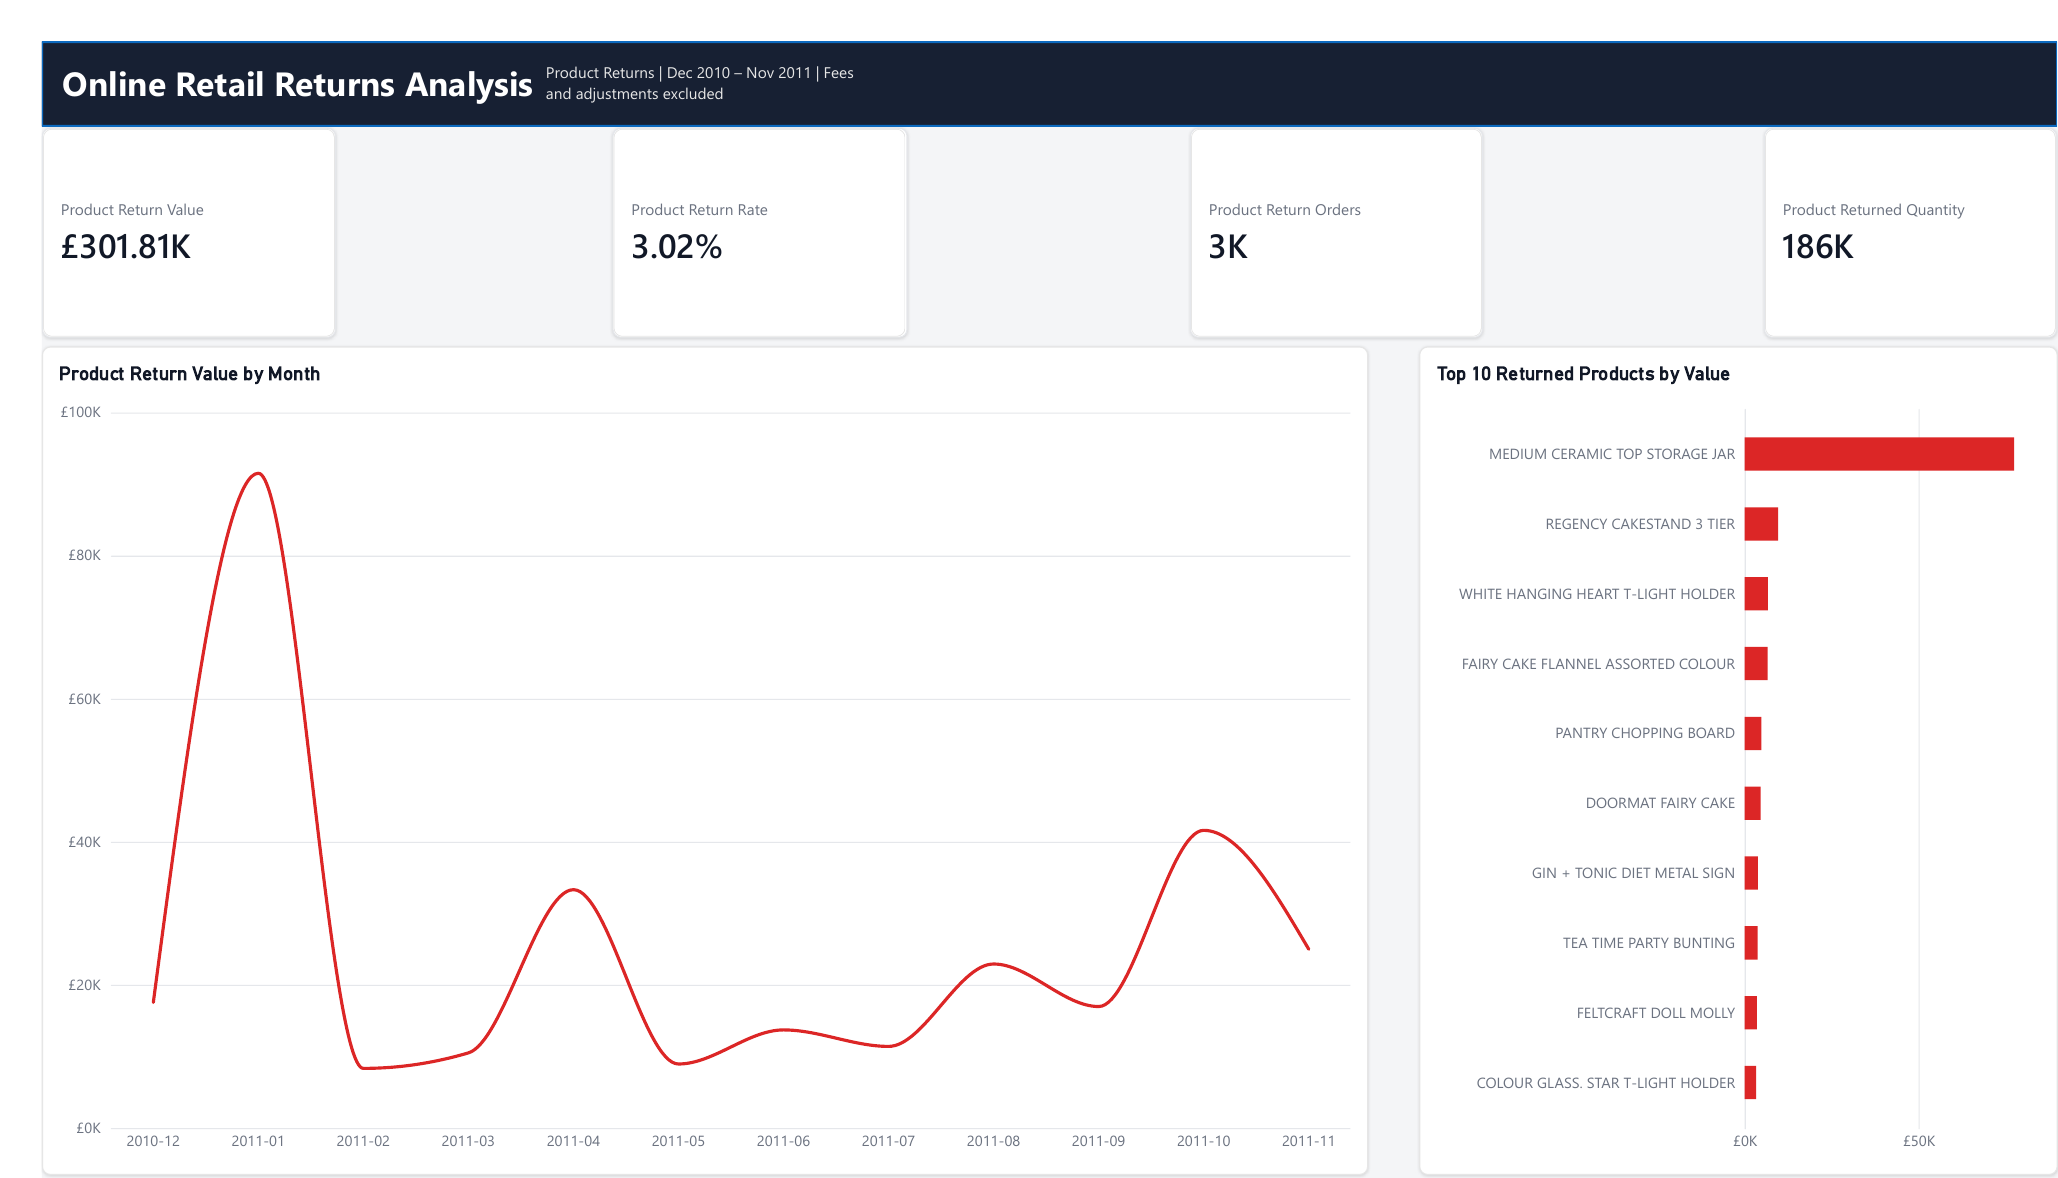

The page's visual inventory and layout, read from the dashboard file:
{"tool":"powerbi","page":{"name":"Returns Analysis","canvas":[1920,1080],"ordinal":1},"visuals":[{"type":"cardVisual","fields":{"Data":["Transactions.Product Return Value"]},"box":[0,81.1,280,200],"z":0},{"type":"cardVisual","fields":{"Data":["Transactions.Product Return Rate"]},"box":[542.7,81.1,280.6,200],"z":1000},{"type":"cardVisual","fields":{"Data":["Transactions.Product Return Orders"]},"box":[1093.3,81.1,279.3,200],"z":2000},{"type":"cardVisual","fields":{"Data":["Transactions.Product Returned Quantity"]},"box":[1640,81.1,279.3,200],"z":3000},{"type":"lineChart","title":"Product Return Value by Month","fields":{"Category":["Calendar.Year Month"],"Y":["Transactions.Product Return Value"]},"box":[0,290.3,1263.5,789.3],"z":4000},{"type":"clusteredBarChart","title":"Top 10 Returned Products by Value","fields":{"Category":["Transactions.Description"],"Y":["Transactions.Product Return Value"]},"box":[1311.6,290.3,608,789],"z":5000},{"type":"shape","box":[0,0,1919.3,80],"z":6000},{"type":"textbox","box":[20,17.3,449.6,62.5],"z":7000},{"type":"textbox","box":[480,19,300,300],"z":8000}]}

Visuals, with their boxes in screenshot pixels (x1, y1, x2, y2), scaled from the page's 1920x1080 canvas onto the 2058x1178 screenshot:
cardVisual - Transactions.Product Return Value: (x1=0, y1=88, x2=300, y2=307)
cardVisual - Transactions.Product Return Rate: (x1=582, y1=88, x2=882, y2=307)
cardVisual - Transactions.Product Return Orders: (x1=1172, y1=88, x2=1471, y2=307)
cardVisual - Transactions.Product Returned Quantity: (x1=1758, y1=88, x2=2057, y2=307)
"Product Return Value by Month" lineChart: (x1=0, y1=317, x2=1354, y2=1177)
"Top 10 Returned Products by Value" clusteredBarChart: (x1=1406, y1=317, x2=2057, y2=1177)
shape: (x1=0, y1=0, x2=2057, y2=87)
textbox: (x1=21, y1=19, x2=503, y2=87)
textbox: (x1=514, y1=21, x2=836, y2=348)
